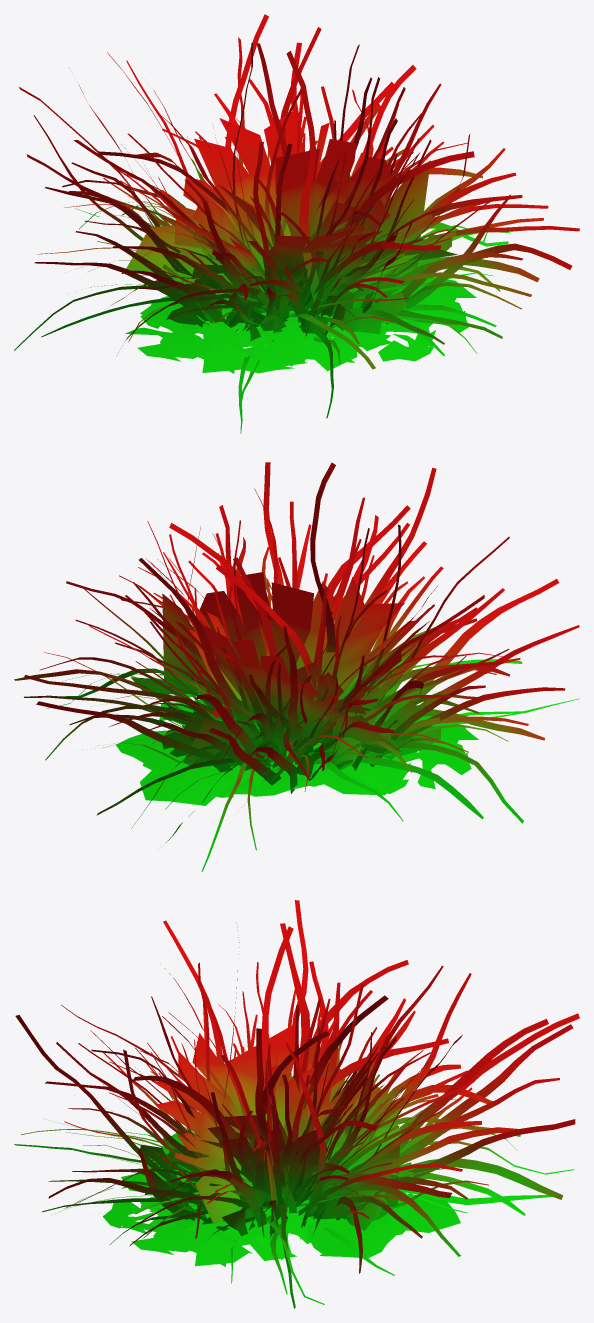
The model's file is Wild Grass_LOD1_Var4_vczndjqja.fbx.
3 views of the same model, one above another, from view 1: azimuth 30°, elevation 25°; view 2: azimuth 150°, elevation 25°; view 3: azimuth 270°, elevation 25° (orthographic). The views are drawn at different scales.
Visible parts, largest first — view 1: _2mp4_Var4_LOD1; view 2: _2mp4_Var4_LOD1; view 3: _2mp4_Var4_LOD1.
Boxes of the visible parts, x1=… form: _2mp4_Var4_LOD1: x1=14, y1=14, x2=579, y2=433; _2mp4_Var4_LOD1: x1=14, y1=462, x2=579, y2=871; _2mp4_Var4_LOD1: x1=14, y1=900, x2=579, y2=1308.
Size of the model in its own units: 109 by 58.72 by 109.
